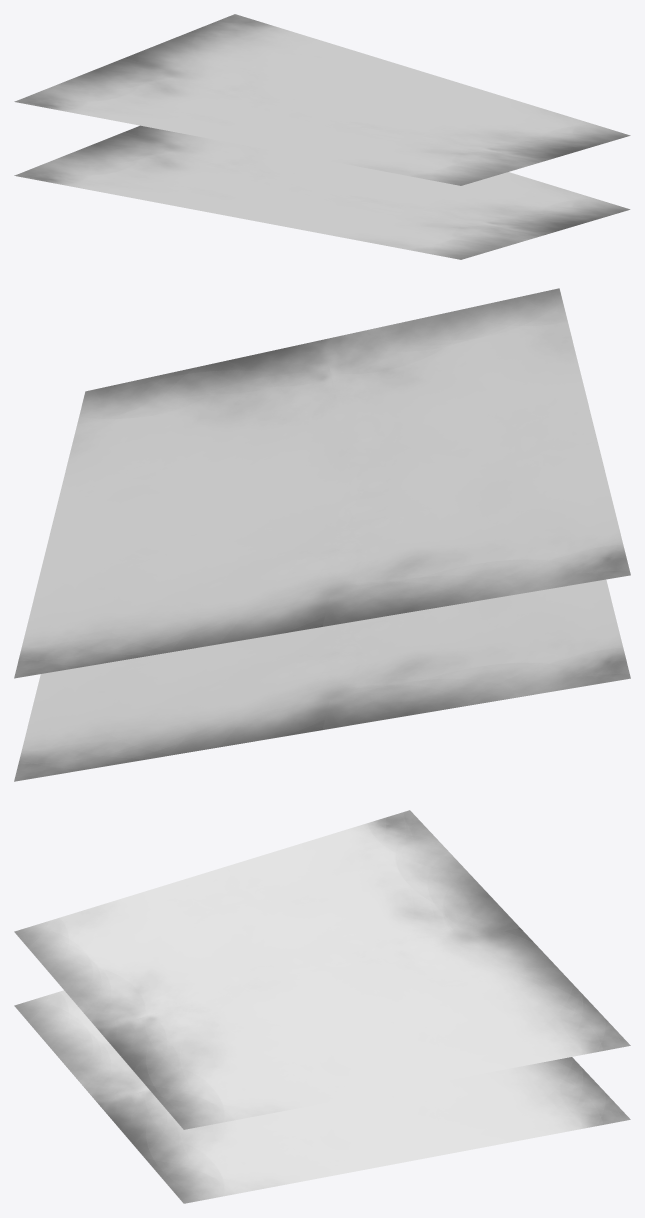
The model's file is CourseWinter_CurveFloor_2_3.fbx.
3 views of the same model, one above another, from view 1: azimuth 30°, elevation 25°; view 2: azimuth 150°, elevation 25°; view 3: azimuth 270°, elevation 25° (orthographic). The views are drawn at different scales.
Parts seen in each view (by area): view 1: polySurface633; view 2: polySurface633; view 3: polySurface633.
Part boxes in pixels (<box>): polySurface633: <box>14,14,630,259</box>; polySurface633: <box>14,288,630,781</box>; polySurface633: <box>14,810,630,1203</box>.
Size of the model in its own units: 7.13 by 2 by 7.56.
1 material, 1 textured.
